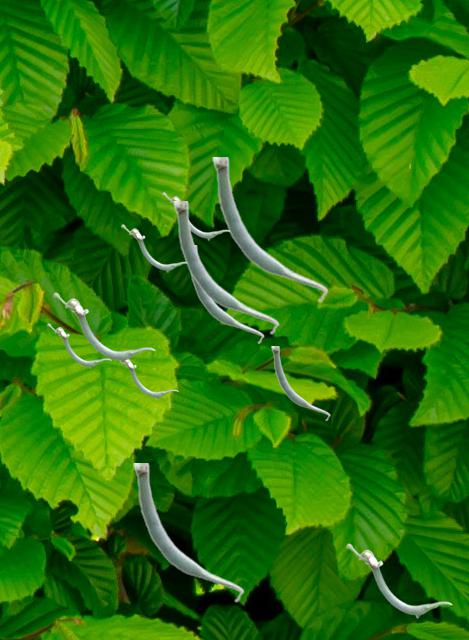french_bean: (212, 157, 327, 302), (133, 463, 243, 602), (173, 201, 278, 334), (346, 543, 451, 617), (189, 245, 263, 343), (53, 292, 154, 362), (271, 346, 329, 420), (162, 192, 228, 239), (121, 224, 185, 271), (47, 323, 110, 367), (121, 359, 177, 398)
